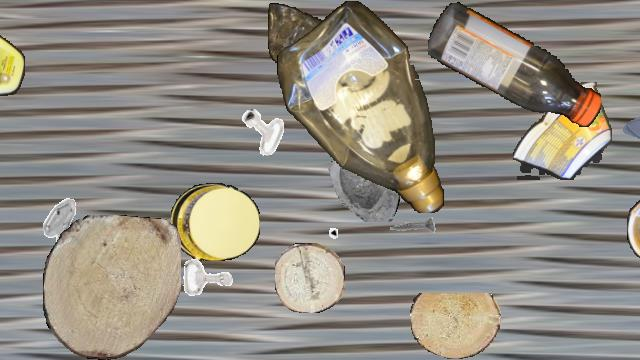glass: (313, 132, 403, 222), (623, 93, 640, 161)
metal: (177, 247, 239, 309), (29, 196, 89, 256), (385, 204, 437, 256), (288, 199, 338, 249), (239, 107, 287, 155)
plastic: (277, 1, 445, 213), (428, 1, 600, 129), (513, 82, 611, 180), (171, 183, 259, 261), (268, 1, 342, 71), (0, 18, 24, 120), (627, 192, 640, 264)
wood: (43, 215, 181, 359), (410, 293, 500, 359), (275, 243, 345, 313)
